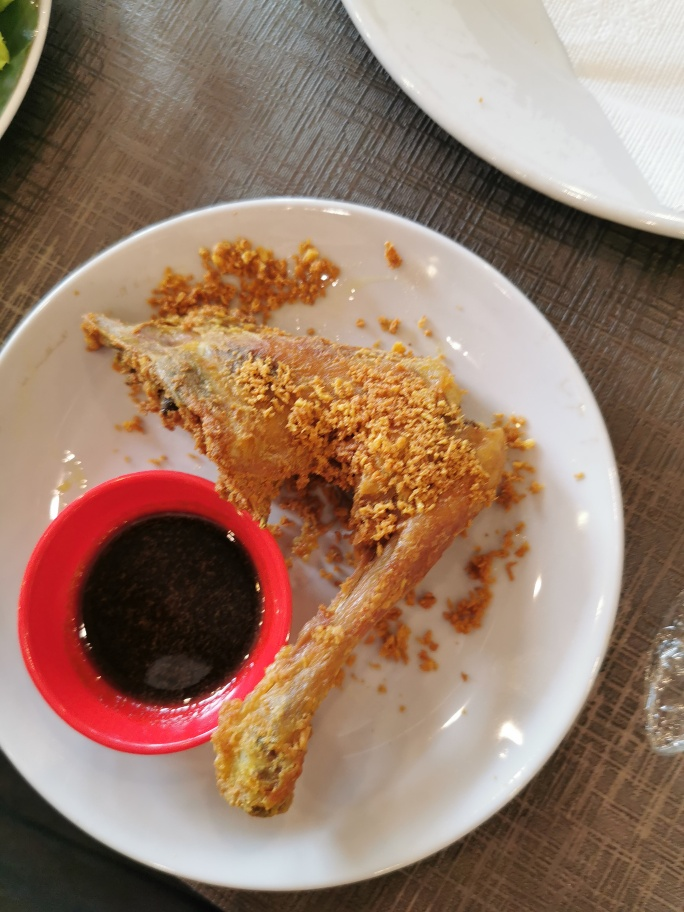ayam goreng: (74, 298, 513, 811)
kecap: (16, 464, 293, 744)
